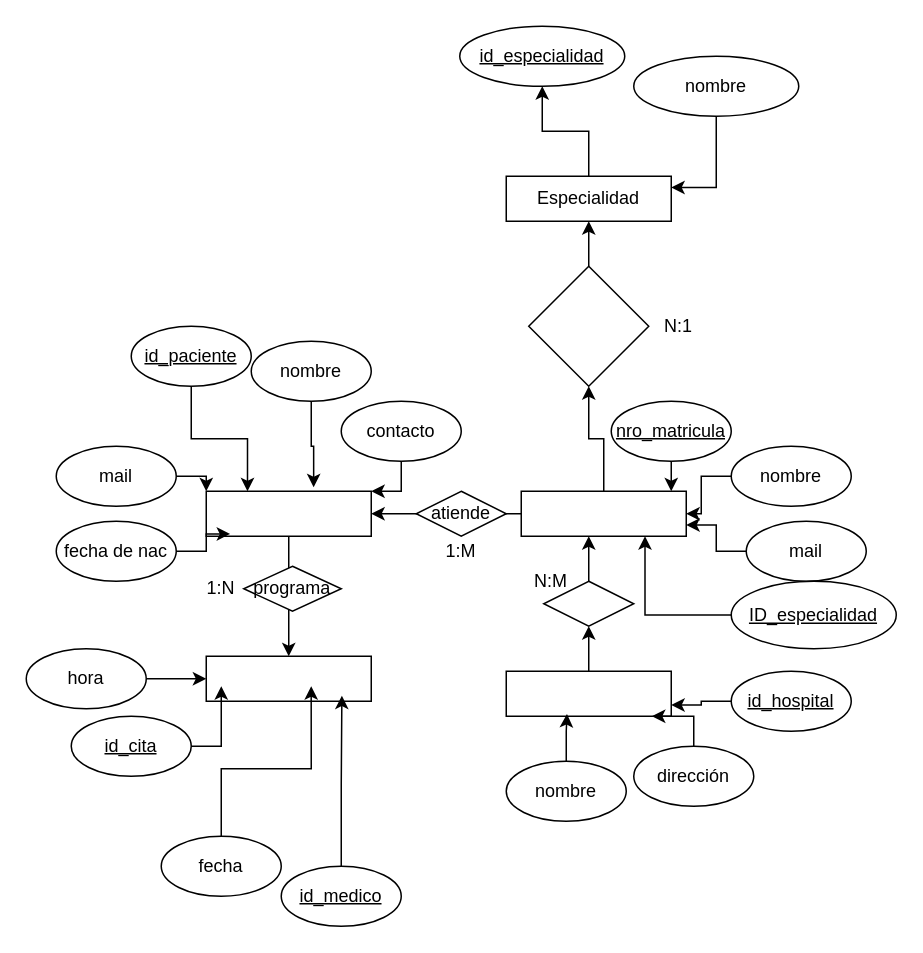
The diagram is 923 pixels wide and 953 high, and some of its shapes have lost their labels. Here are the shapes that lost their labels. From the top down, the box of each, then its label:
(527, 265, 649, 386): tienen
(205, 490, 371, 536): pacientes
(520, 490, 686, 536): médicos
(542, 580, 634, 626): tiene
(205, 655, 371, 701): citas
(505, 670, 671, 716): Hospital
